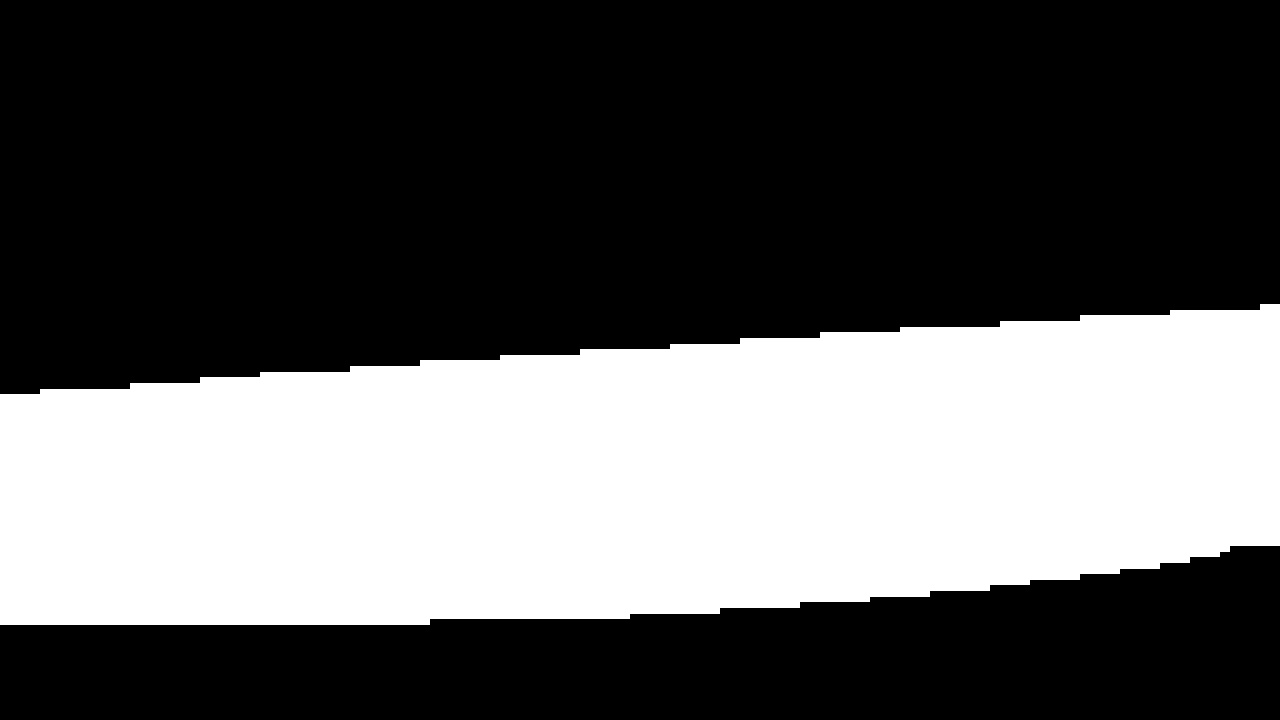Turbine: (9, 290, 1269, 643)
